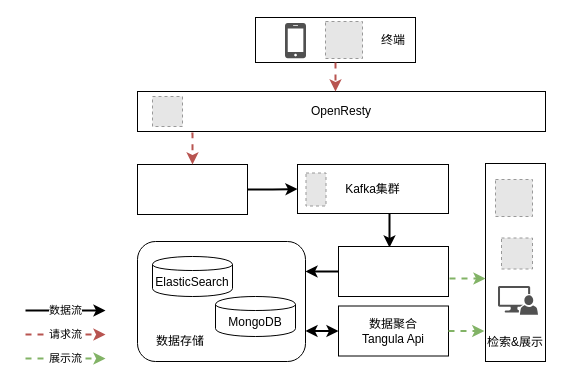
The diagram is 572 pixels wide and 385 high, and some of its shapes have lost their labels. Grey dashed boxes stand in for pictures. Each missing label, with the centre of its shape:
"数据处理 Tangula Kepi" belongs at point (393, 271).
"数据接入 Tangula Portal" belongs at point (192, 189).
